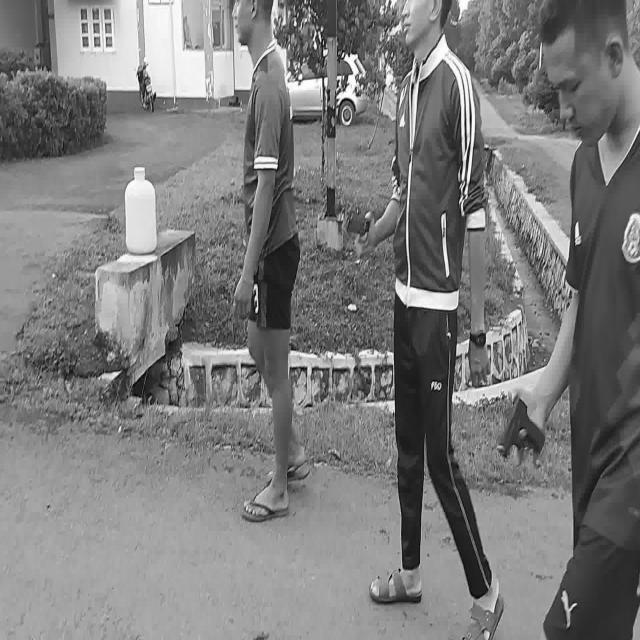gun: (498, 395, 546, 459)
